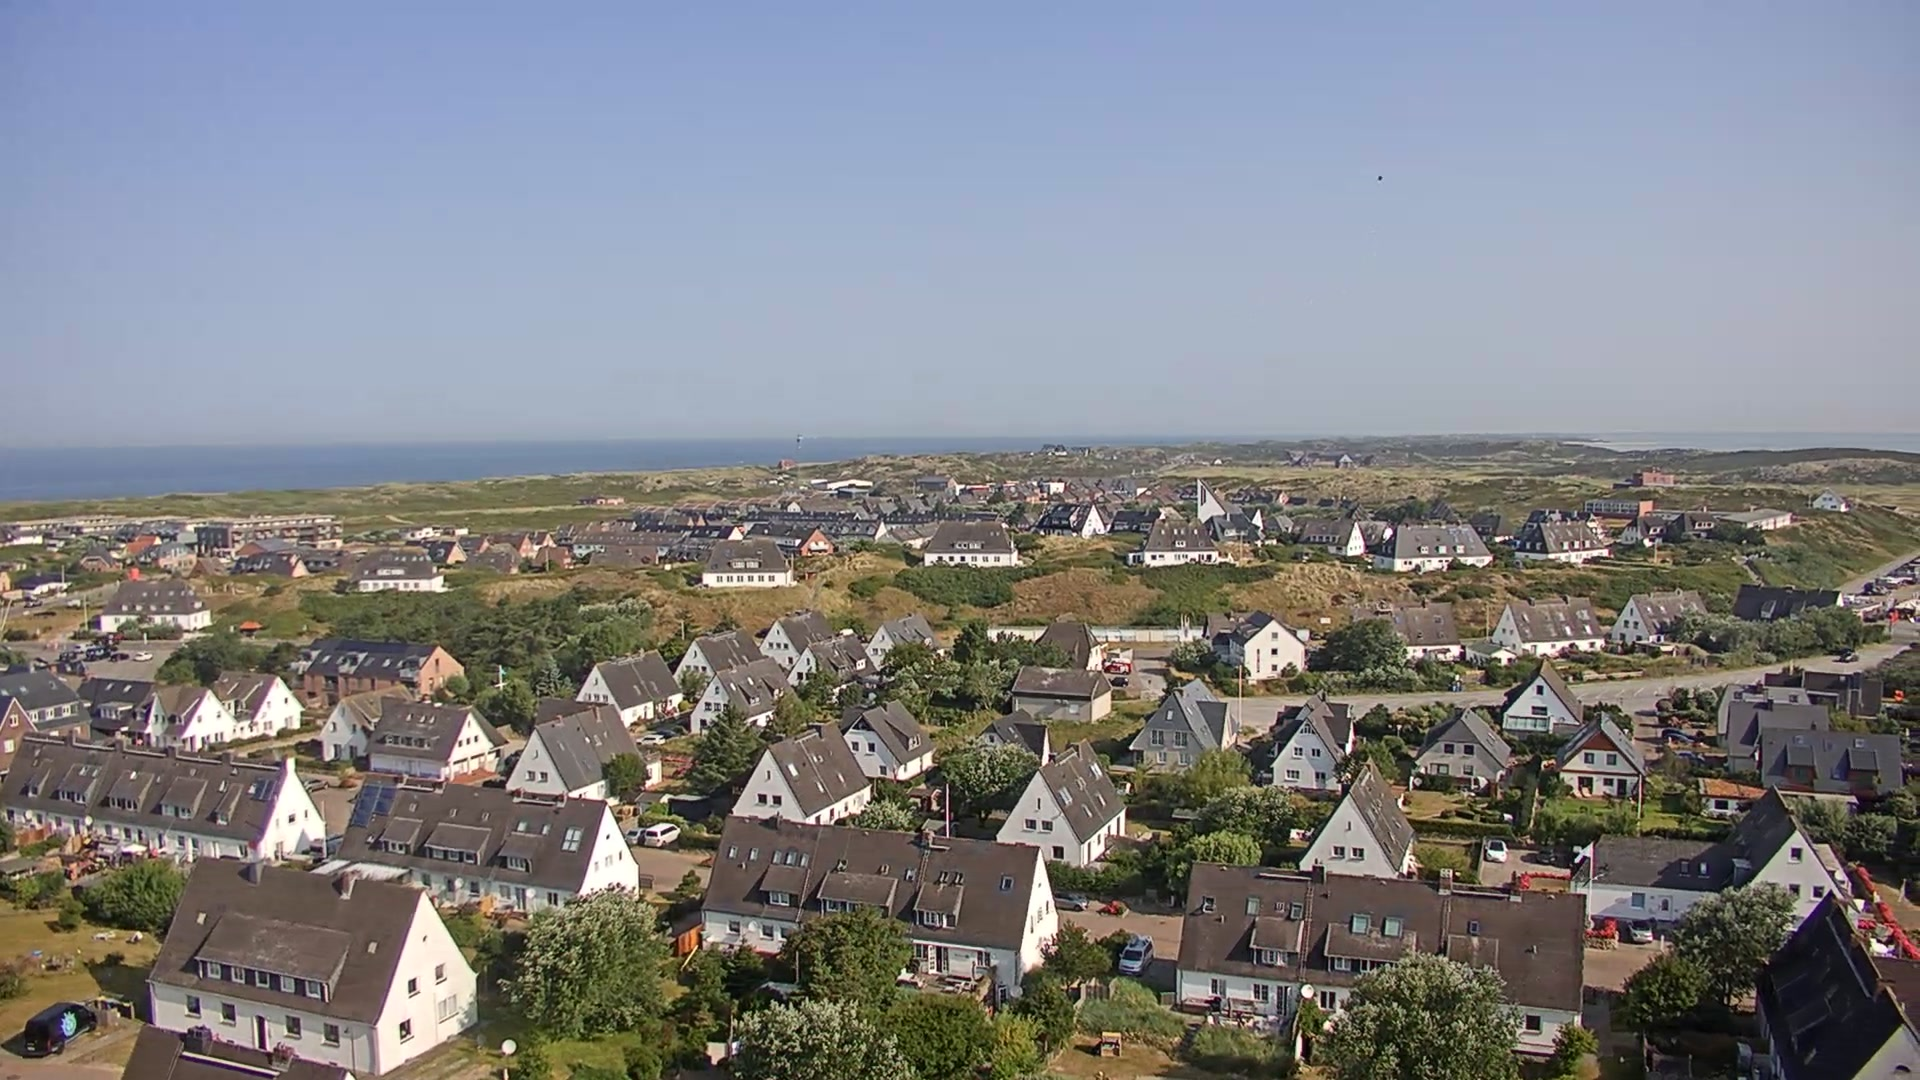land: (20, 1000, 98, 1058), (1116, 934, 1155, 977), (622, 822, 682, 847), (1052, 891, 1088, 913), (1626, 918, 1654, 943), (1484, 837, 1509, 862), (295, 775, 330, 793), (1534, 847, 1557, 865), (1102, 655, 1130, 670), (634, 732, 665, 745), (1106, 659, 1131, 675), (1660, 731, 1693, 742), (1659, 727, 1693, 737), (1671, 749, 1704, 760), (83, 646, 107, 659), (71, 641, 94, 653), (654, 727, 676, 738), (1106, 675, 1129, 687), (1840, 651, 1859, 665), (133, 650, 153, 662), (24, 597, 44, 608), (108, 651, 127, 662), (671, 724, 690, 735), (641, 824, 649, 845)
